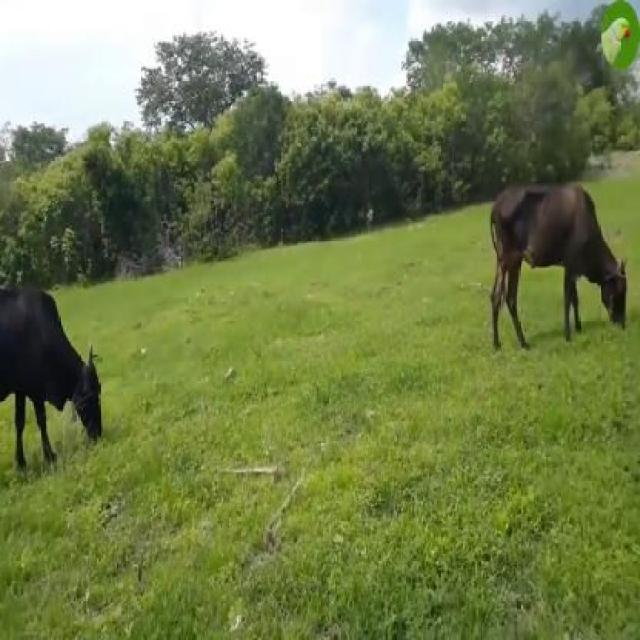Cow: (490, 188, 628, 346), (0, 286, 102, 471)
